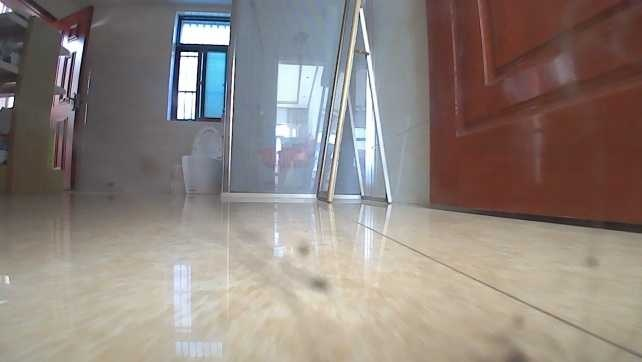door_anno: (422, 0, 641, 227)
toilet: (179, 126, 223, 195)
